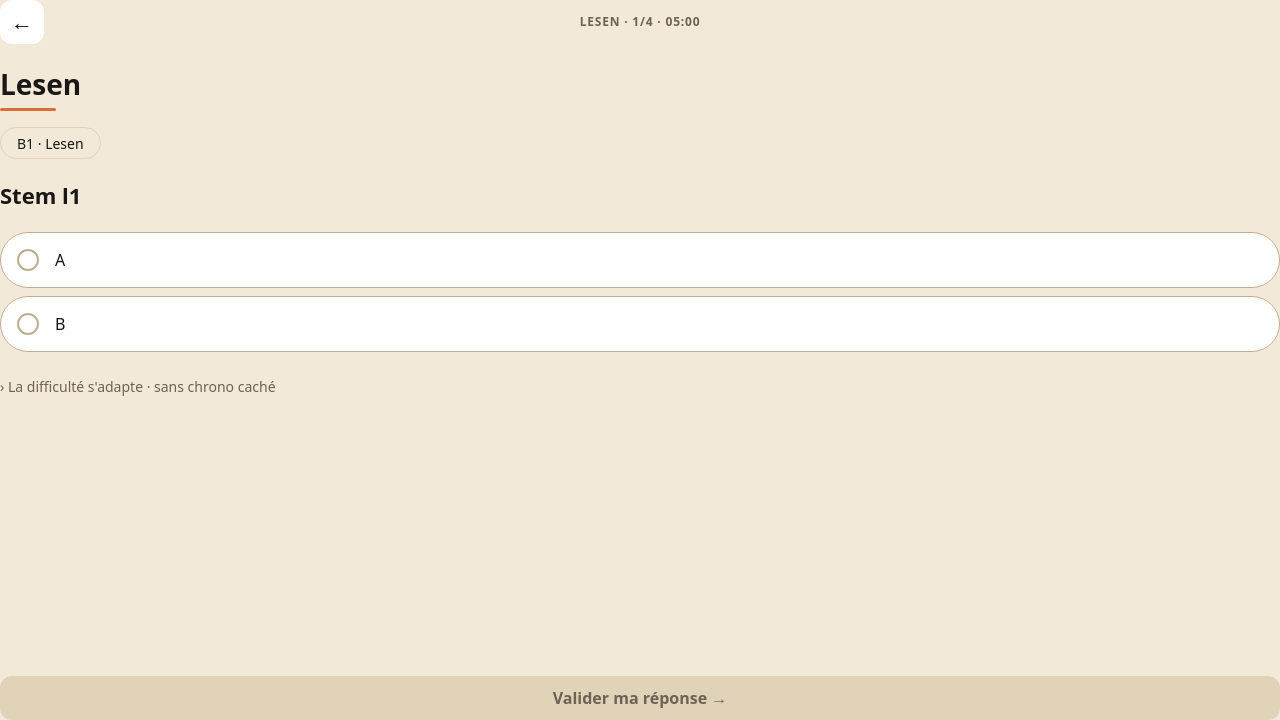
it: DiagnosticScreen › validate is disabled until an option is selected, then records + advances
Check: the button with test id "onboarding-diagnostic-cta" is disabled, box [0,676,1279,719]
Click the radio button with test id "onboarding-diagnostic-option-a". click: (28, 260)
box: [0,232,1279,288]
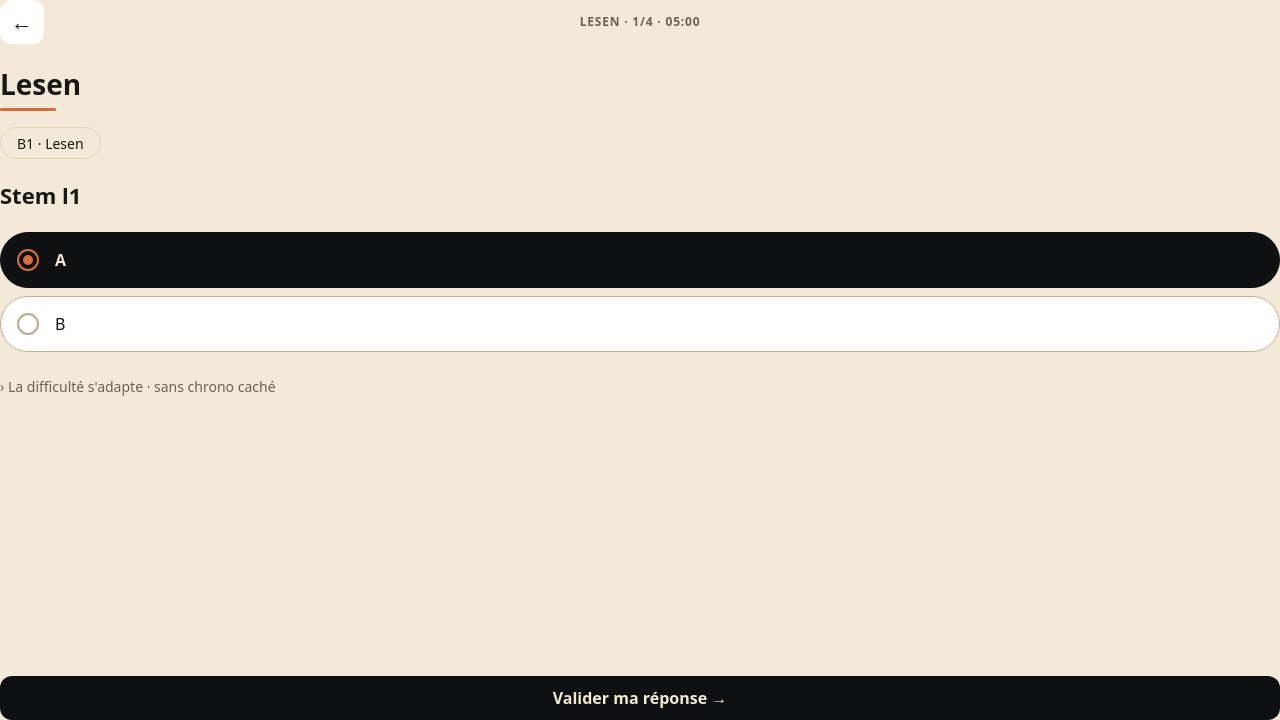
Click the button with test id "onboarding-diagnostic-cta". click: (640, 698)
box: [0,676,1279,719]
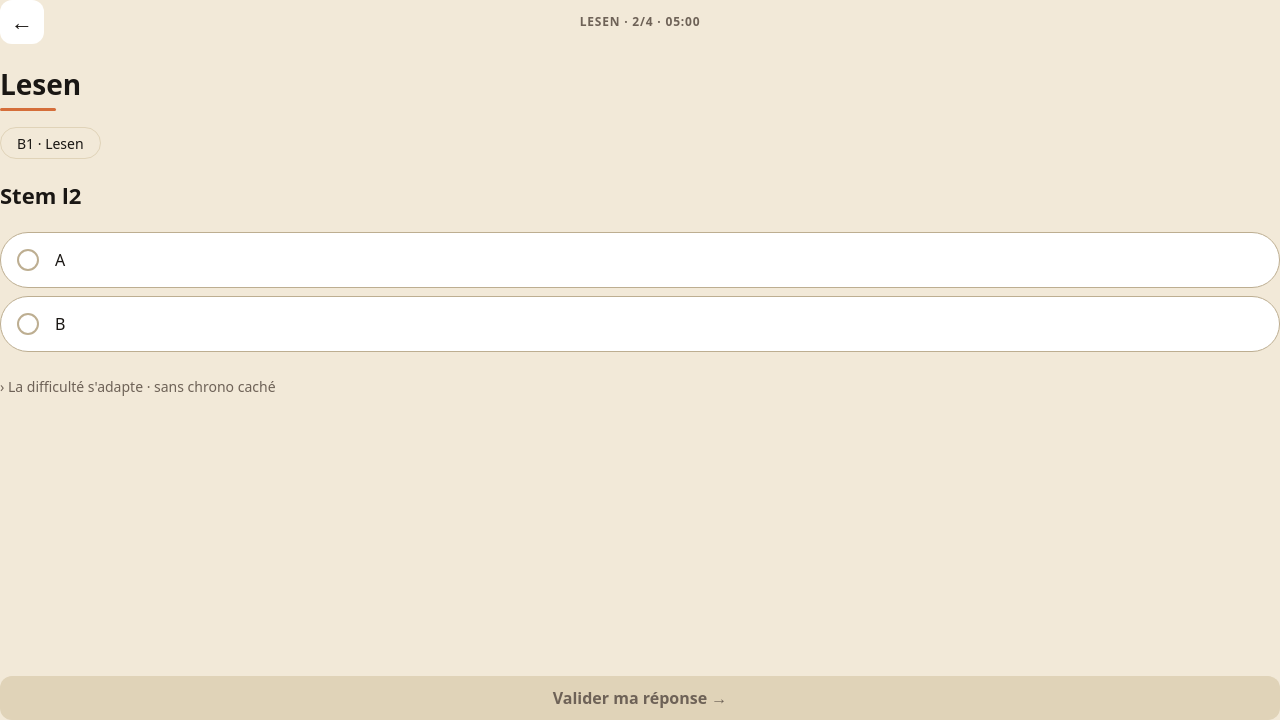
Check: the text with test id "onboarding-diagnostic-eyebrow" shows "2/4", box [580,13,700,31]
